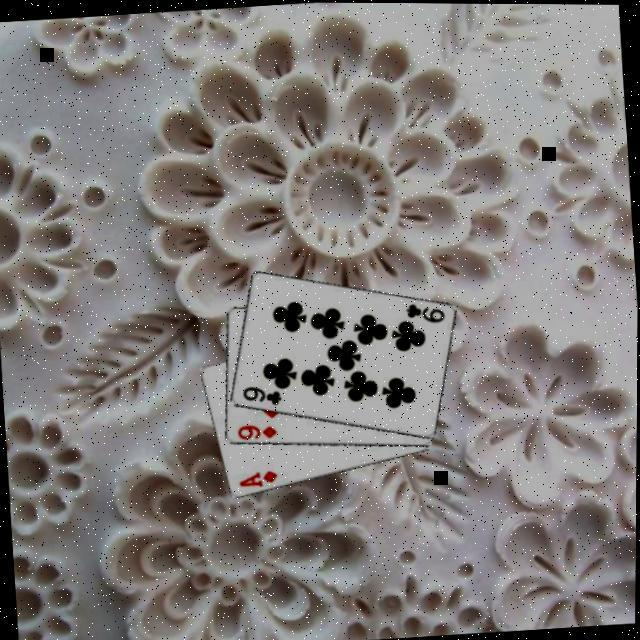9C: (239, 379, 285, 408), (403, 297, 449, 326)
9D: (235, 419, 281, 441)
AD: (237, 465, 281, 489)
